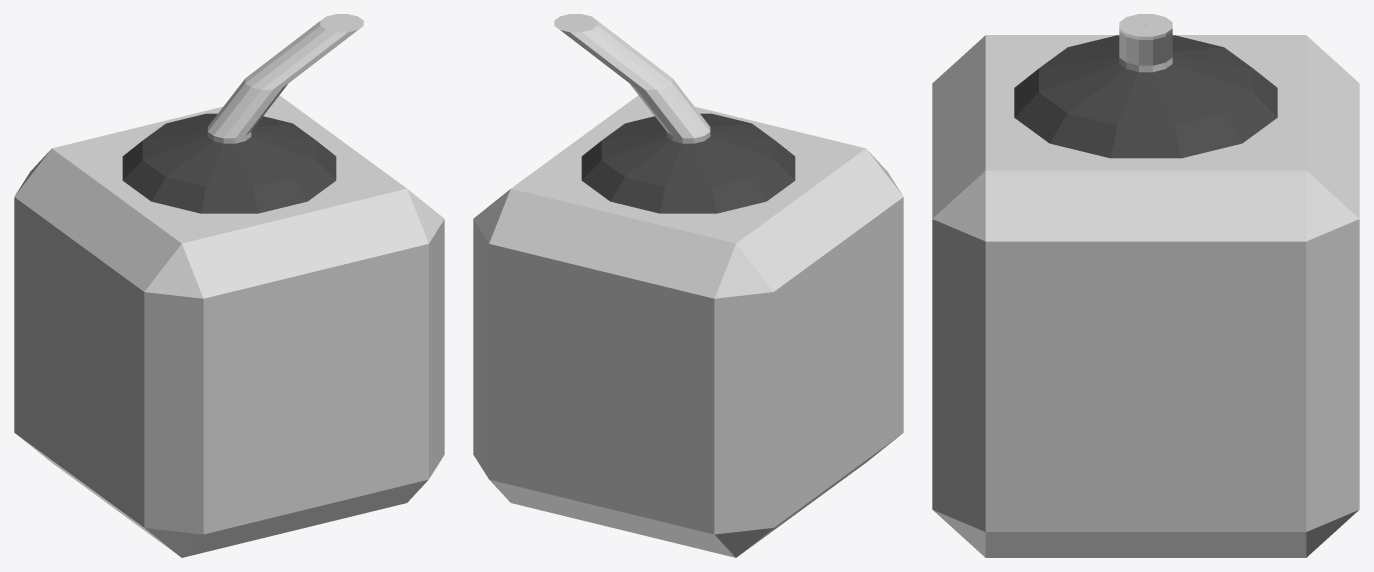
The model's file is small_bomb.glb.
3 renders of one model, left to right at view 1: azimuth 30°, elevation 25°; view 2: azimuth 150°, elevation 25°; view 3: azimuth 270°, elevation 25°, orthographic. The views are drawn at different scales.
Parts seen in each view (by area): view 1: beveled_cuboid, sphere, tube; view 2: beveled_cuboid, sphere, tube; view 3: beveled_cuboid, sphere, tube.
Part boxes in pixels (box(x1,y1,x2,y2)): beveled_cuboid: box(14, 95, 444, 557); sphere: box(122, 113, 336, 213); tube: box(207, 14, 363, 143); beveled_cuboid: box(473, 95, 903, 557); sphere: box(581, 113, 795, 213); tube: box(554, 14, 710, 143); beveled_cuboid: box(932, 35, 1359, 557); sphere: box(1014, 35, 1277, 158); tube: box(1119, 14, 1172, 72).
Bounding box in the file's own units: 0.5 × 0.6875 × 0.5.
Materials: 3 (2 with a texture image).
